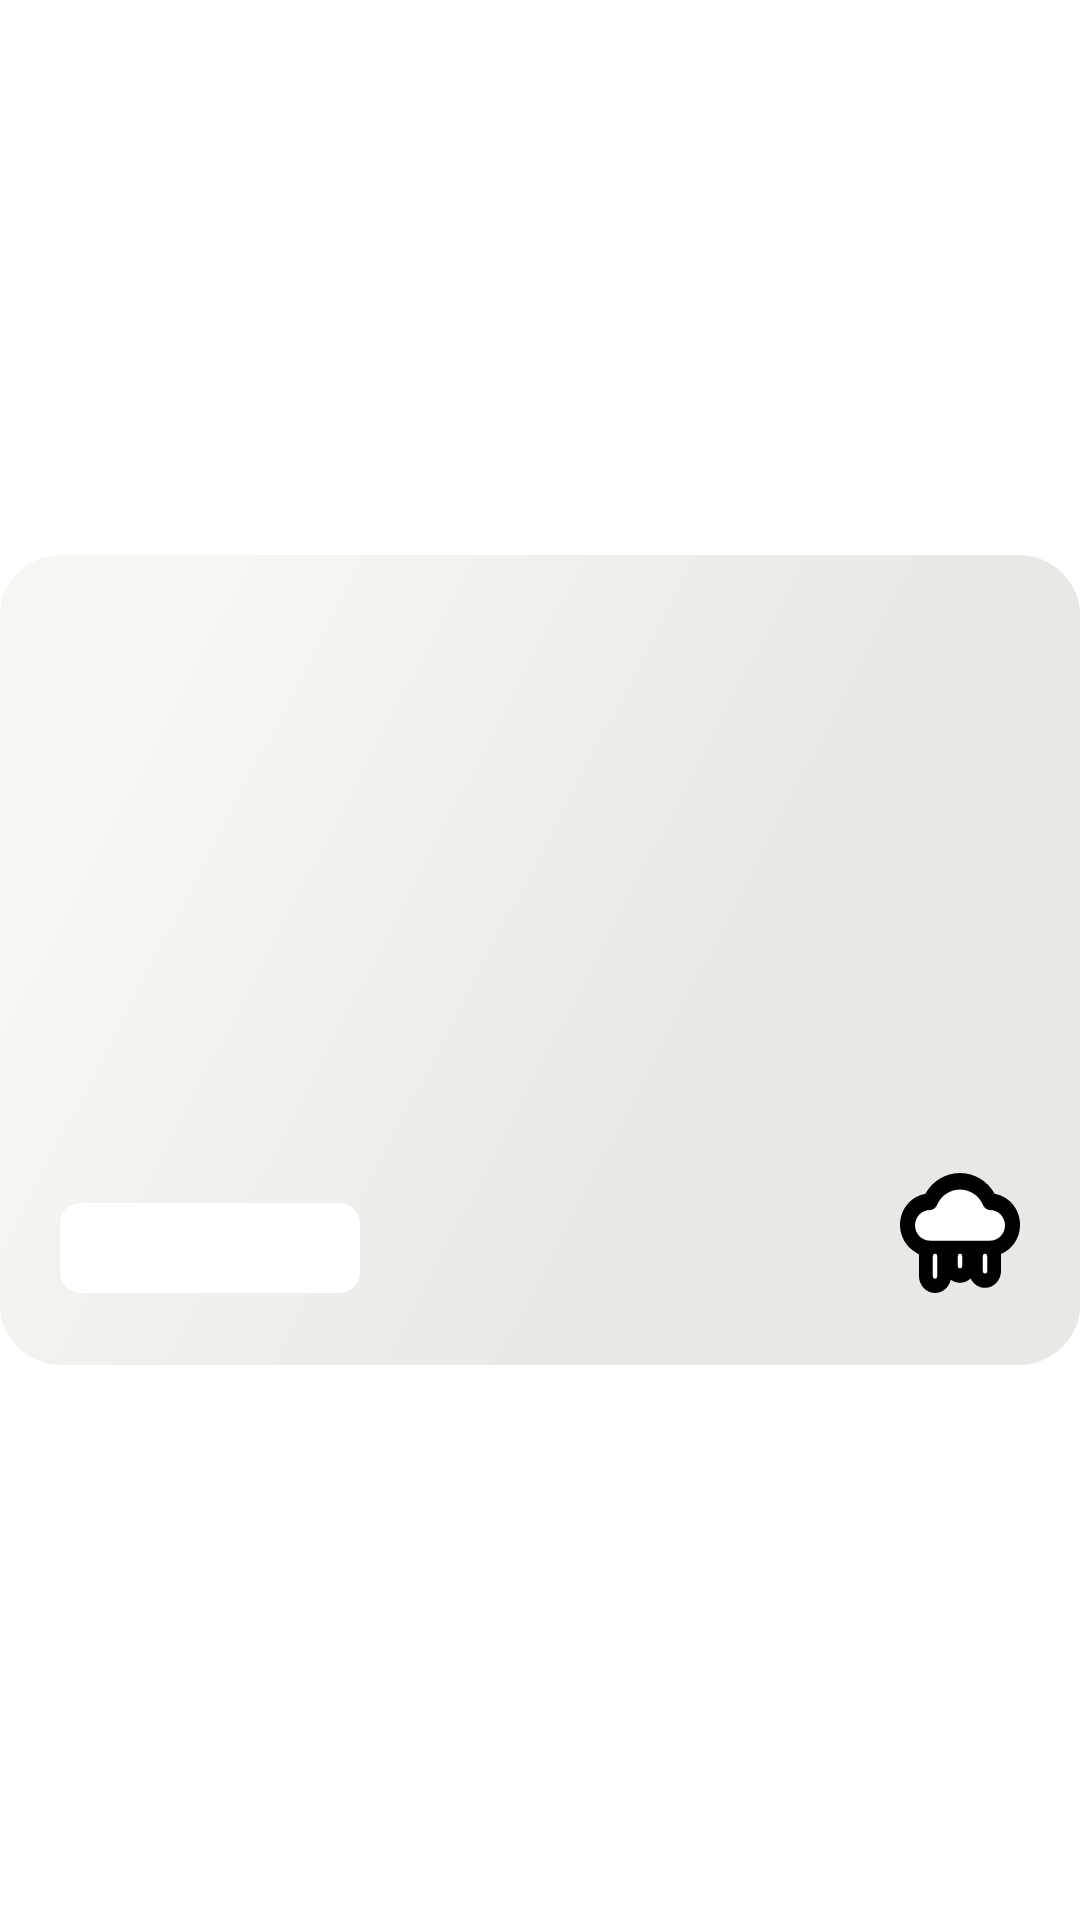

Where icons sit on this 1080px x 1920px app screen, as box=[x1, y1, x2, y2]:
rain: box=[900, 1173, 1020, 1293]
